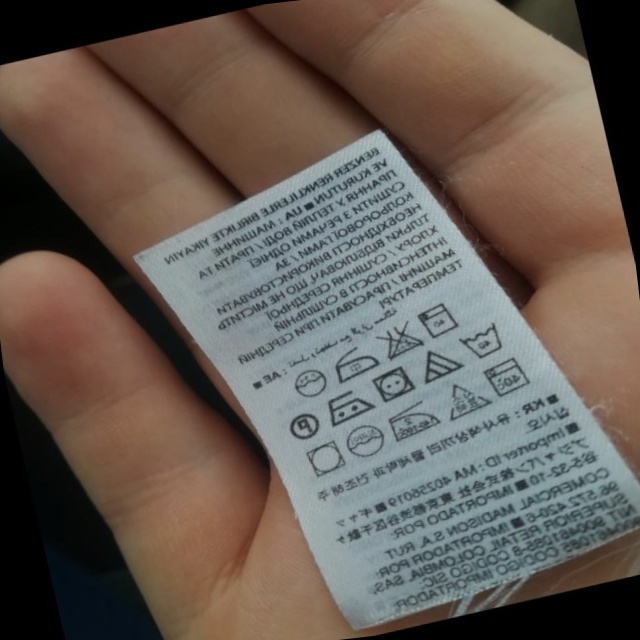40C: (454, 320, 506, 365), (481, 354, 529, 401), (415, 299, 458, 343)
dry_clean: (341, 420, 388, 462), (287, 363, 331, 404)
dry_clean_any_solvent_except_trichloroethylene: (284, 408, 322, 443)
iron: (328, 342, 381, 384)
iron_medium: (382, 399, 442, 444), (323, 386, 374, 427)
non_chlorine_bleach: (439, 378, 489, 424), (414, 344, 463, 386)
tumble_dry_medium: (366, 361, 418, 405)
tumble_dry_normal: (301, 438, 350, 483)
